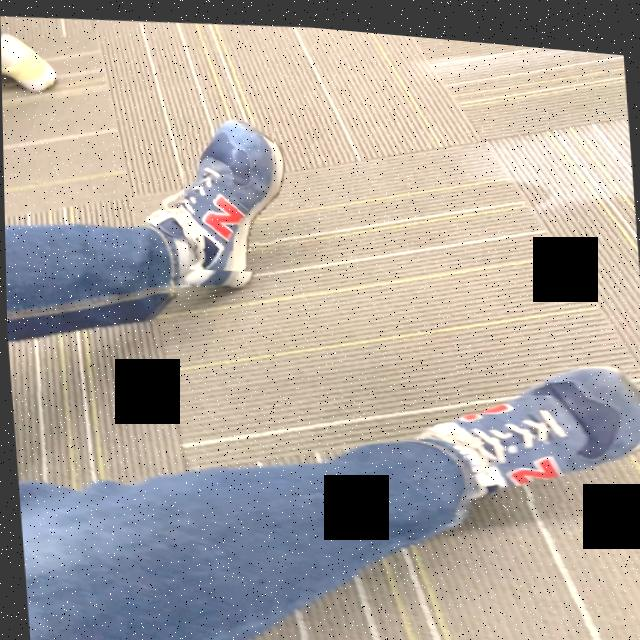shoe: (464, 357, 640, 490), (184, 120, 275, 266)
